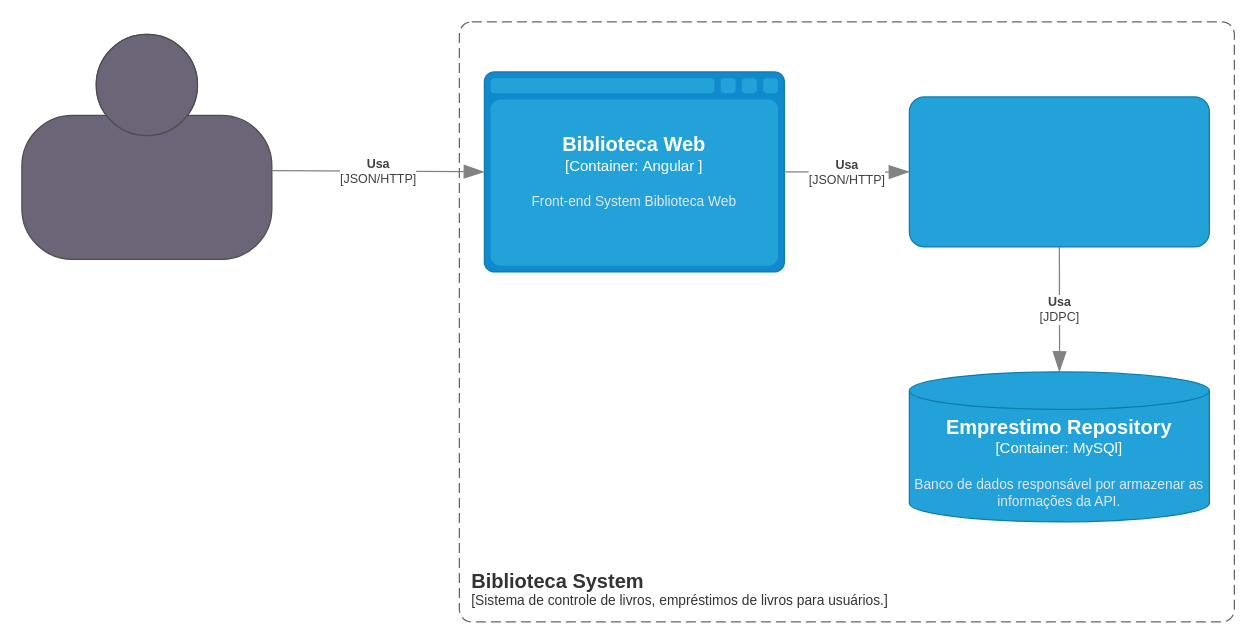
The diagram is 1256 pixels wide and 644 high, and some of its shapes have lost their labels. The box of each missing label's shape, as (x1, y1, x2, y2) in pixels:
Bliblioteca API [Container: Typescript e express] Api - Gerenciamento Biblioteca: (908, 96, 1209, 247)
Usuario [Person] Pessoa que possui Usuario e vai fazer um empréstimo: (21, 33, 272, 259)
